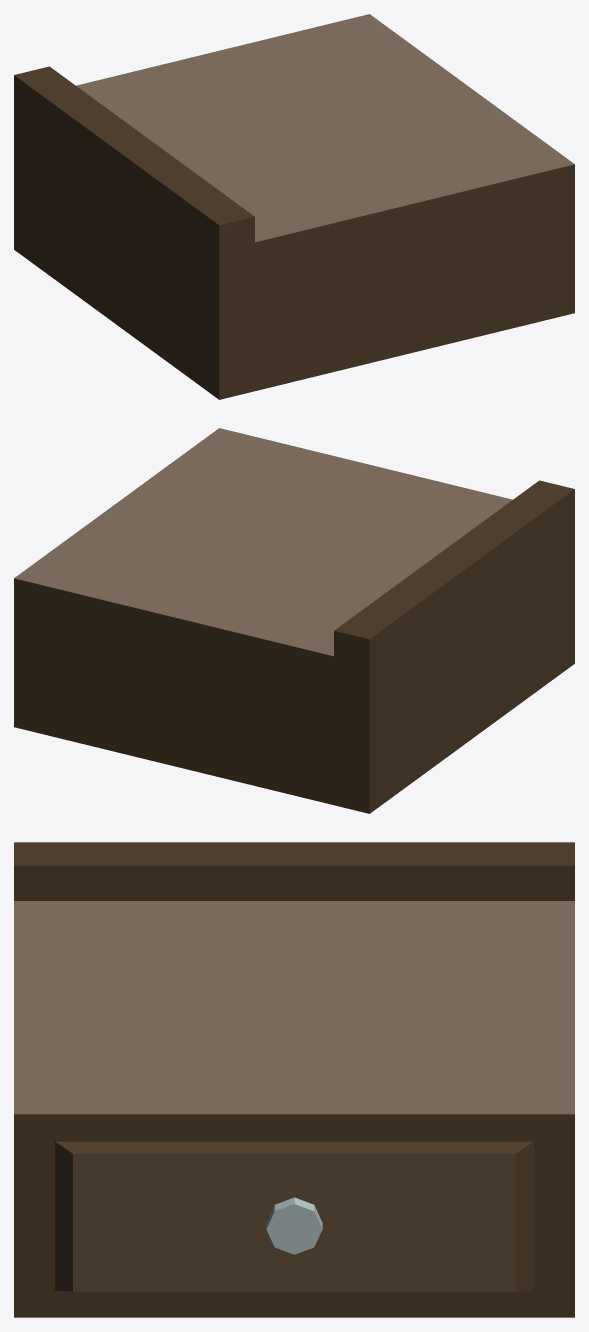
The model's file is table_side.fbx.
3 views of the same model, one above another, from view 1: azimuth 30°, elevation 25°; view 2: azimuth 150°, elevation 25°; view 3: azimuth 270°, elevation 25° (orthographic). The views are drawn at different scales.
Visible parts, largest first — view 1: Cube.001; view 2: Cube.001; view 3: Cube.001.
Boxes of the visible parts, <box> form: Cube.001: <box>14,14,574,399</box>; Cube.001: <box>14,428,574,813</box>; Cube.001: <box>14,842,574,1317</box>.
Bounding box in the file's own units: 106 × 46.91 × 100.
